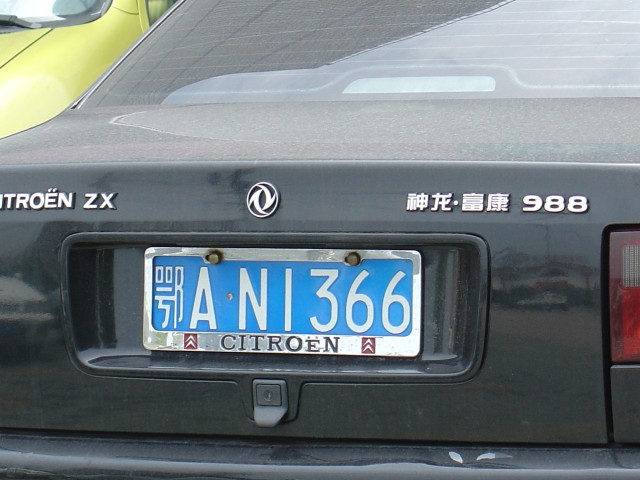plate_number: (148, 249, 419, 346)
